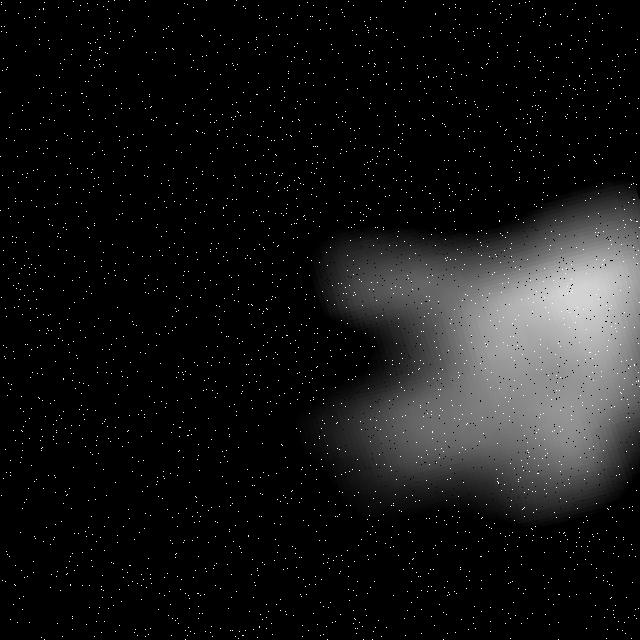person: (240, 143, 640, 566)
